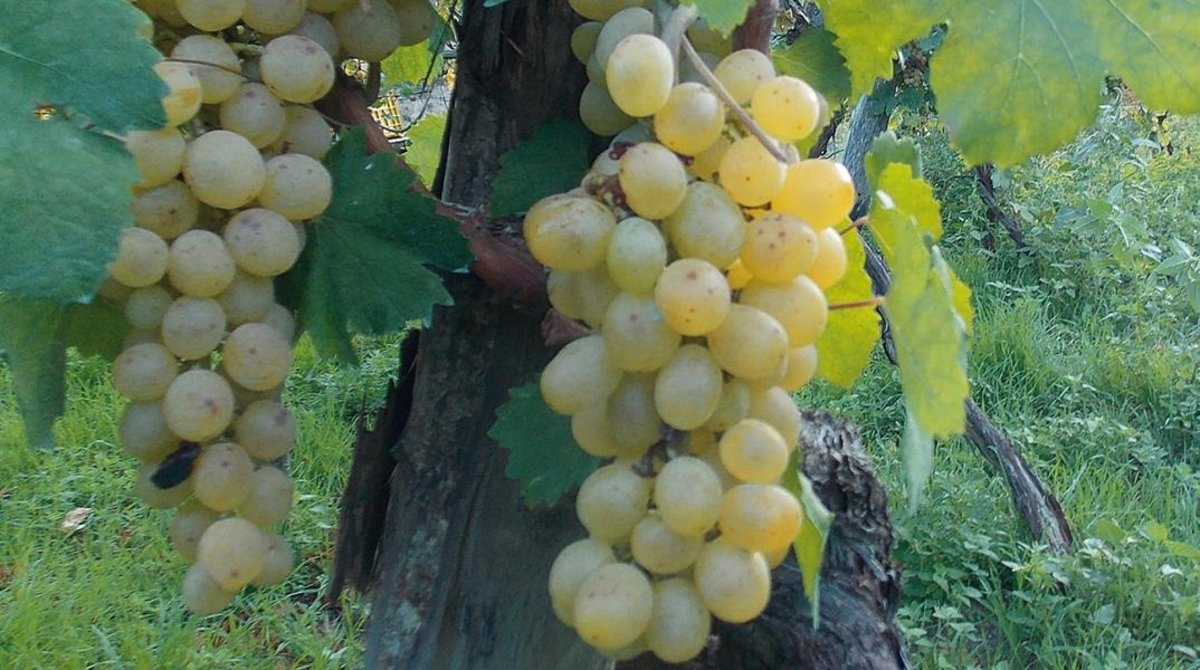Green grapes: (542, 37, 840, 659), (67, 26, 351, 614)
